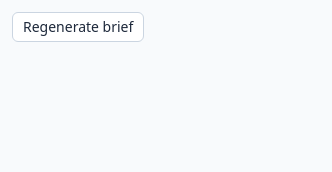
it: RegenButton › starts a regeneration, shows busy state, and reports errors
The image size is (332, 172).
Click the button "Regenerate brief".
click(78, 27)  # box [12,12,144,42]
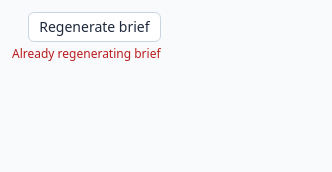
Now the message reads "Already regenerating brief", box [12,45,160,62]
Click the button "Regenerate brief".
click(94, 27)  # box [28,12,160,42]
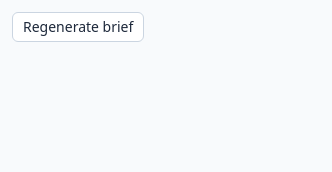
Now the message "Already regenerating brief" is gone
